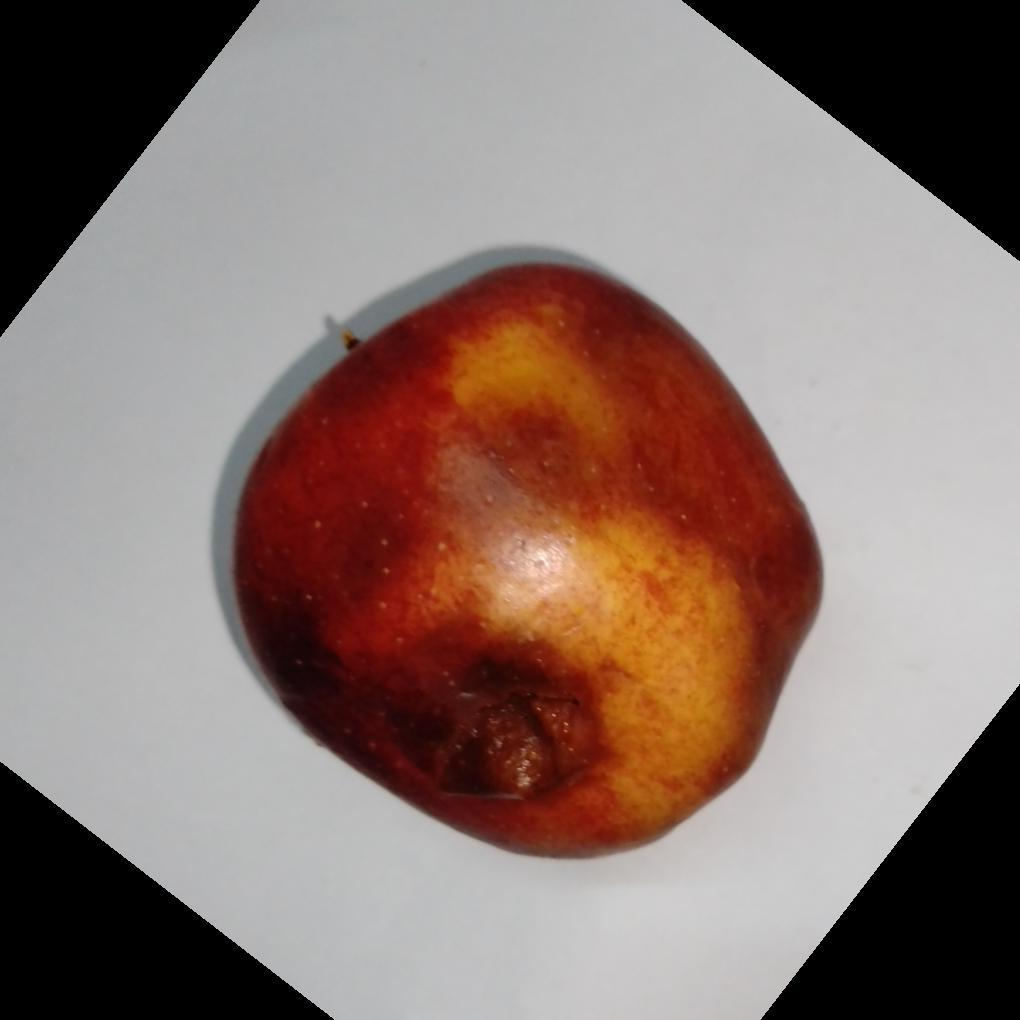FreshOrange: (214, 248, 825, 864)
